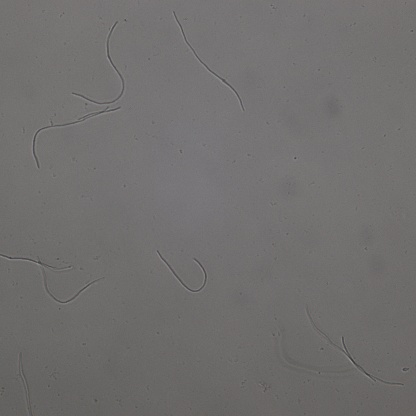Sensitive: (308, 306, 404, 386), (174, 12, 244, 110), (32, 107, 120, 169), (72, 22, 125, 105), (38, 258, 105, 304), (158, 252, 208, 293), (1, 252, 71, 274)
